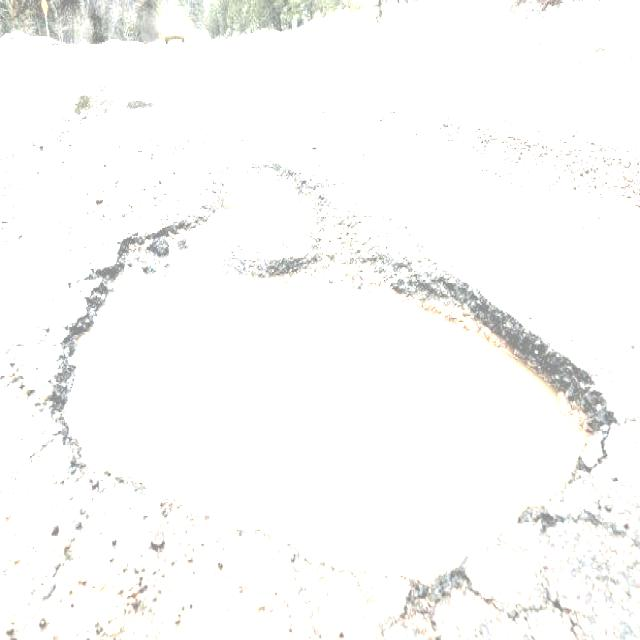Pothole: (39, 145, 618, 614)
